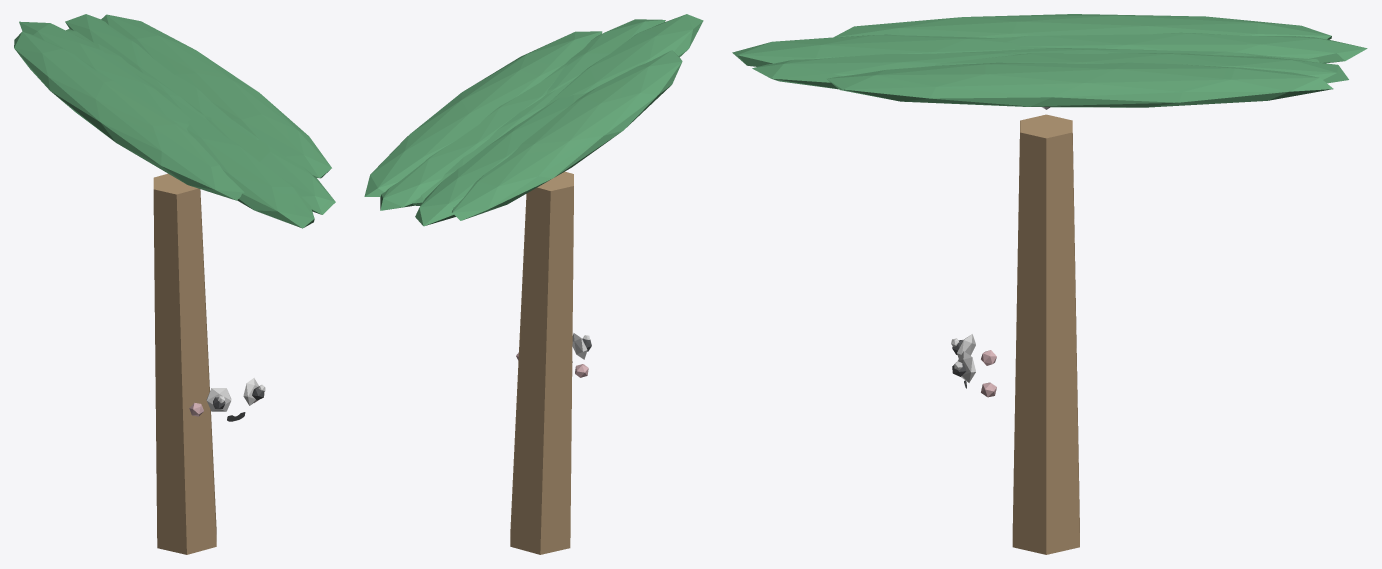
The model's file is arenga-engleri.glb.
3 views of the same model, side by side, from view 1: azimuth 30°, elevation 25°; view 2: azimuth 150°, elevation 25°; view 3: azimuth 270°, elevation 25° (orthographic). The views are drawn at different scales.
Parts seen in each view (by area): view 1: trunk, frond3, frond0, frond2, frond6, frond4, frond1, frond5; view 2: trunk, frond3, frond0, frond6, frond4, frond2, frond1, frond5; view 3: trunk, frond0, frond3, frond4, frond2, frond6, frond1, frond5.
Part boxes in pixels (bbox=[...]): trunk: bbox=[153, 173, 216, 554]; frond3: bbox=[14, 31, 244, 200]; frond0: bbox=[101, 14, 331, 178]; frond2: bbox=[176, 106, 314, 228]; frond6: bbox=[65, 14, 259, 139]; frond4: bbox=[19, 21, 190, 131]; frond1: bbox=[204, 116, 335, 214]; frond5: bbox=[66, 28, 240, 142]; trunk: bbox=[510, 171, 573, 554]; frond3: bbox=[452, 50, 682, 220]; frond0: bbox=[364, 31, 602, 196]; frond6: bbox=[380, 64, 567, 210]; frond4: bbox=[415, 92, 587, 226]; frond2: bbox=[541, 14, 703, 109]; frond1: bbox=[546, 19, 665, 93]; frond5: bbox=[413, 68, 582, 205]; trunk: bbox=[1012, 114, 1079, 554]; frond0: bbox=[826, 62, 1333, 107]; frond3: bbox=[833, 14, 1331, 39]; frond4: bbox=[992, 32, 1367, 63]; frond2: bbox=[732, 34, 1056, 66]; frond6: bbox=[935, 53, 1348, 83]; frond1: bbox=[752, 52, 1018, 89]; frond5: bbox=[938, 48, 1319, 62].
Bounding box in the file's own units: 0.231 × 0.6298 × 0.7353.
